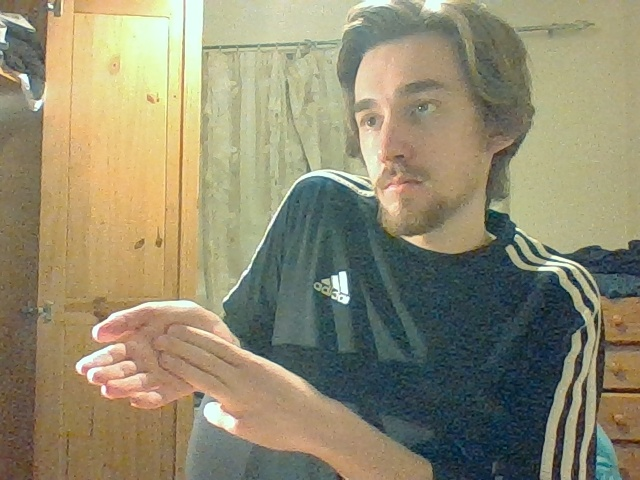mother: (75, 300, 233, 408)
